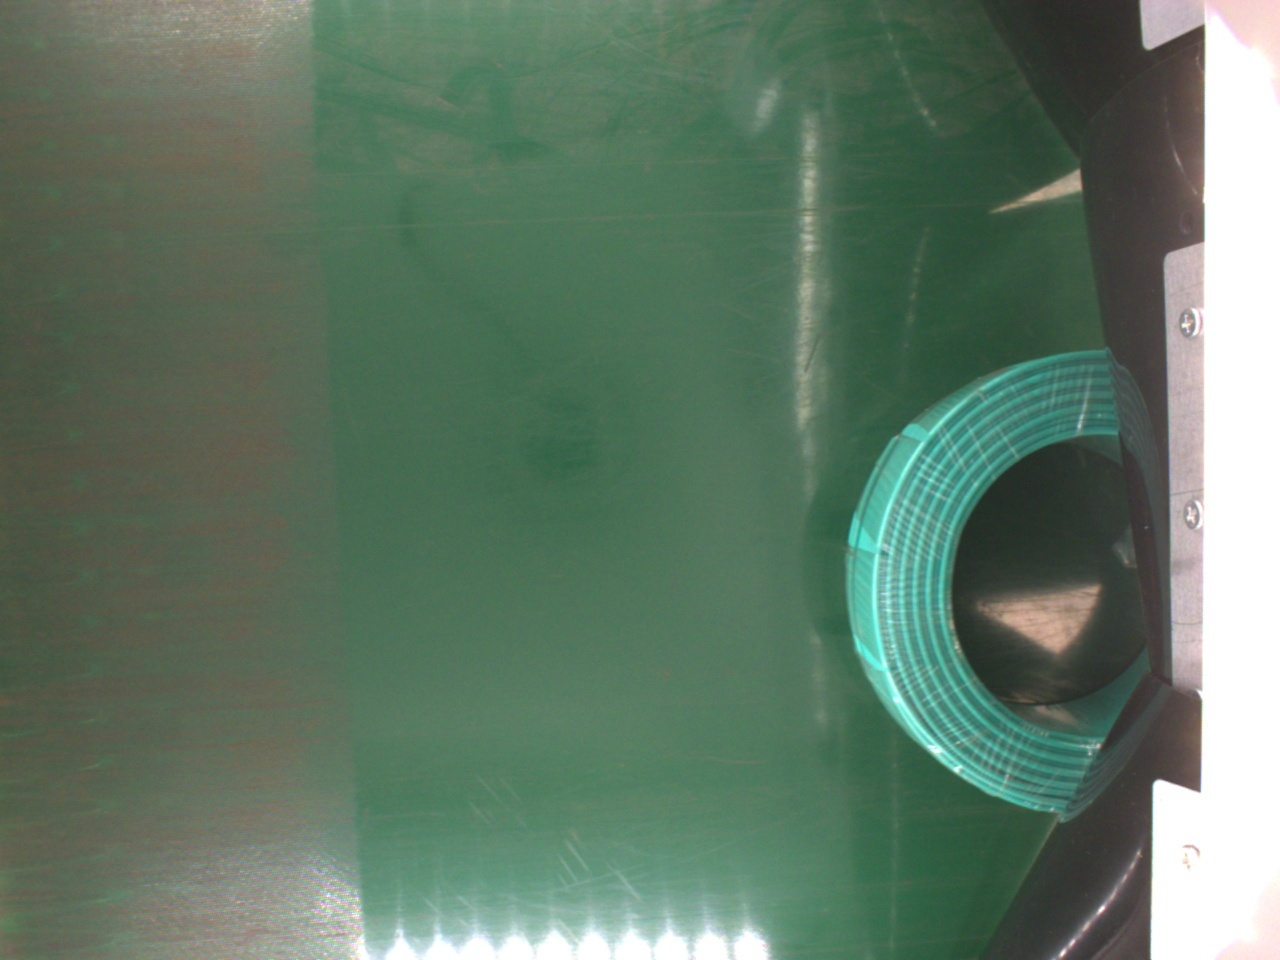green: (840, 348, 1138, 808)
